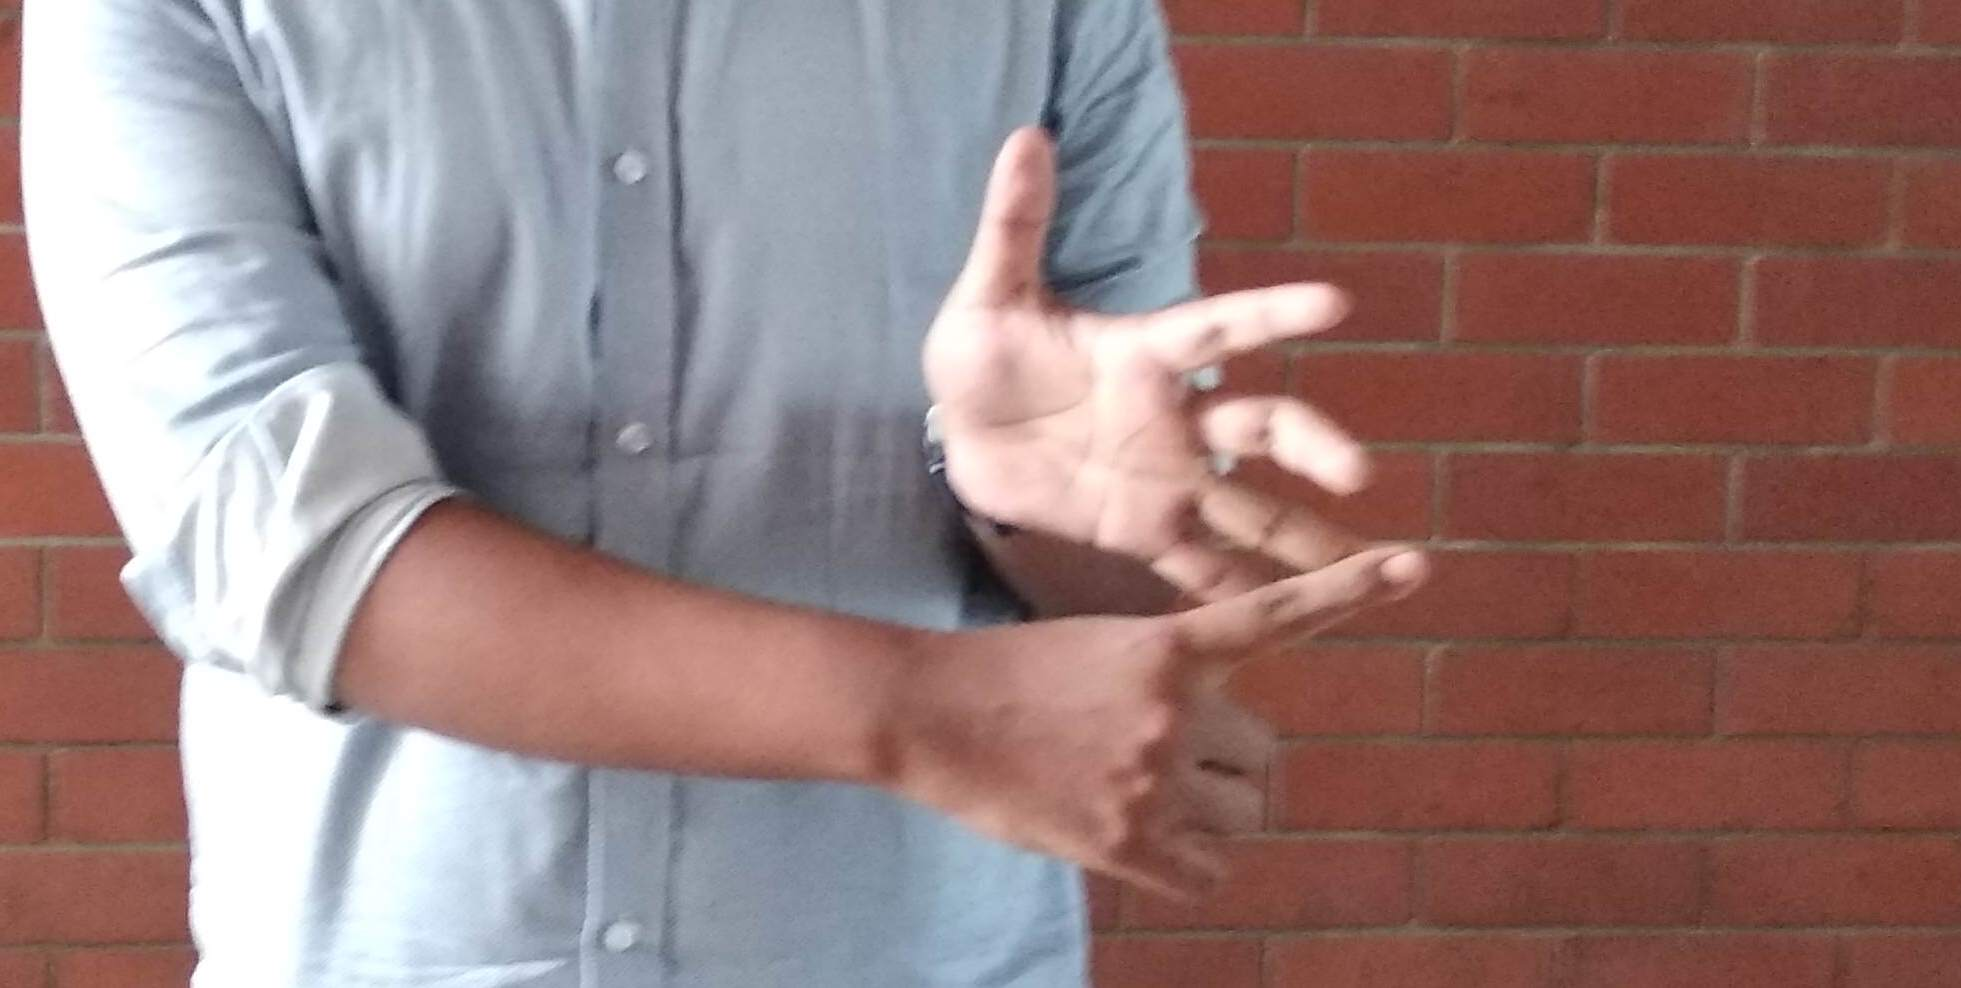e: (945, 175, 1422, 875)
